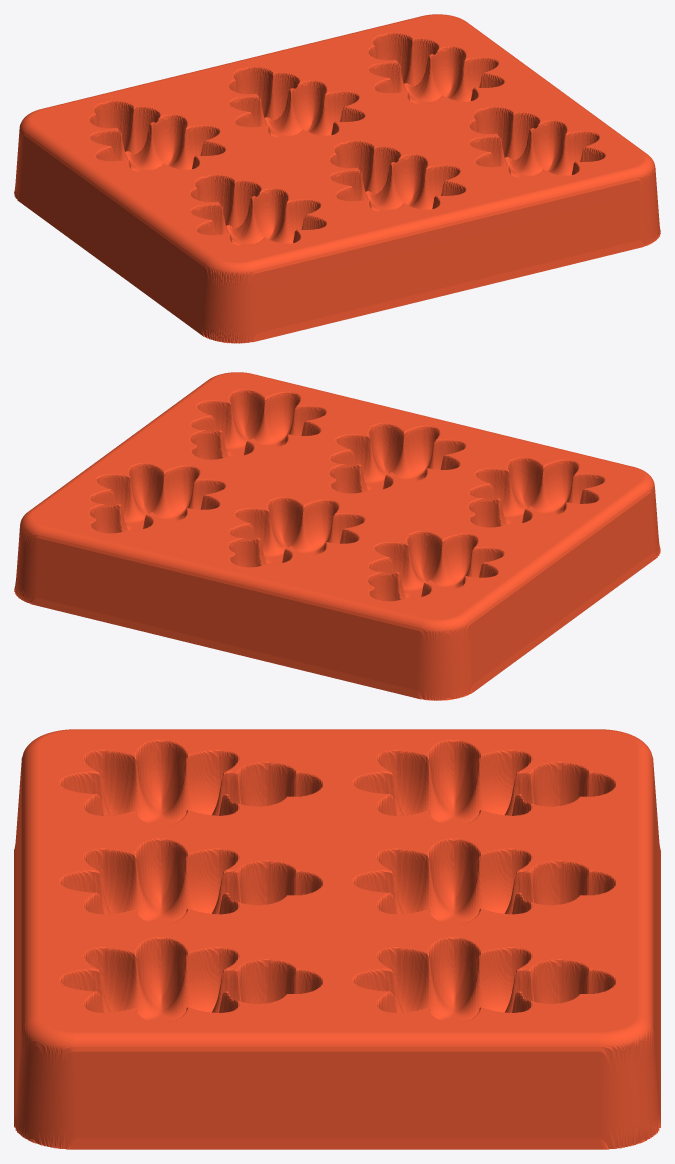
Rendered from mold.glb.
The picture shows the model from 3 angles, top to bottom: view 1: azimuth 30°, elevation 25°; view 2: azimuth 150°, elevation 25°; view 3: azimuth 270°, elevation 25°; orthographic projection. The views are drawn at different scales.
Visible parts, largest first — view 1: geometry_0; view 2: geometry_0; view 3: geometry_0.
Boxes of the visible parts, left/top/right/bottom form: geometry_0: left=14, top=14, right=660, bottom=343; geometry_0: left=14, top=372, right=660, bottom=700; geometry_0: left=14, top=729, right=660, bottom=1149.
Size of the model in its own units: 0.1123 by 0.0175 by 0.0955.
